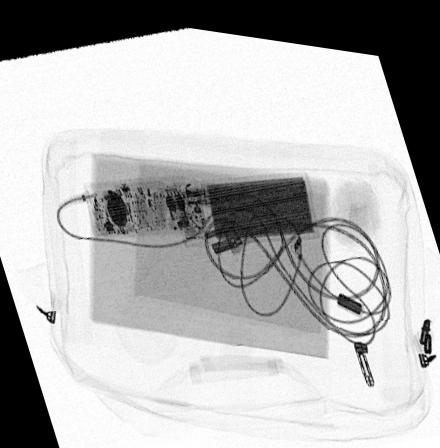Powerbank: (170, 160, 318, 242)
